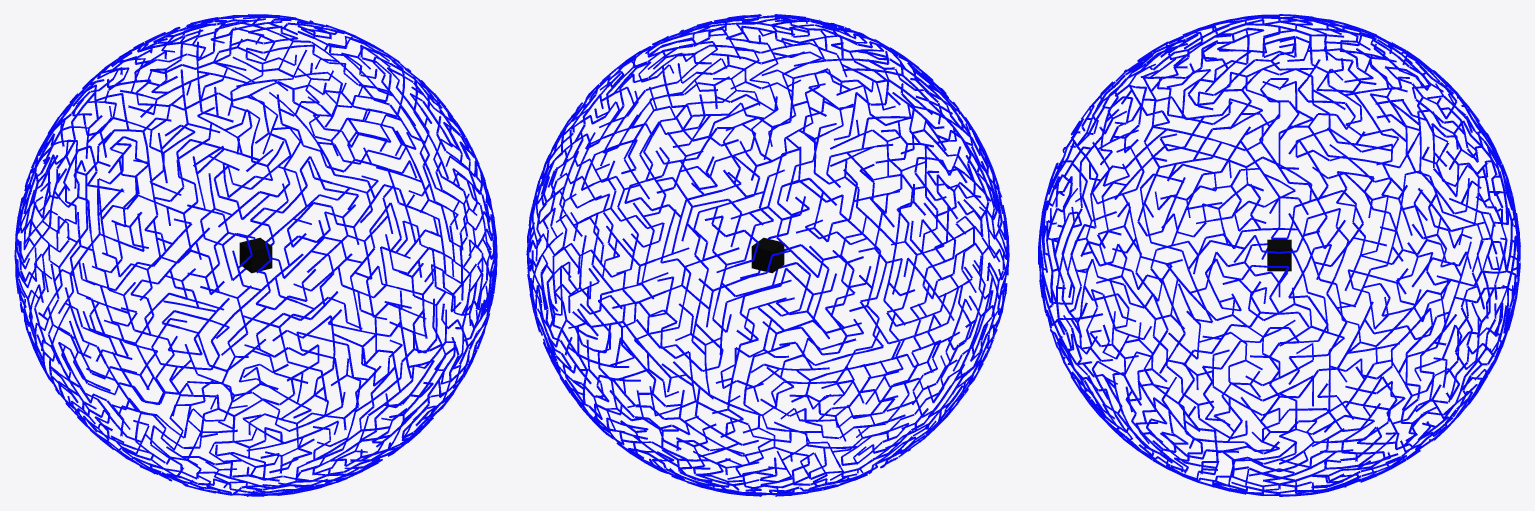
File: BallMaze.glb
The picture shows the model from 3 angles, left to right: view 1: azimuth 30°, elevation 25°; view 2: azimuth 150°, elevation 25°; view 3: azimuth 270°, elevation 25°; orthographic projection.
Bounding box in the file's own units: 2.01 × 2.01 × 2.01.
